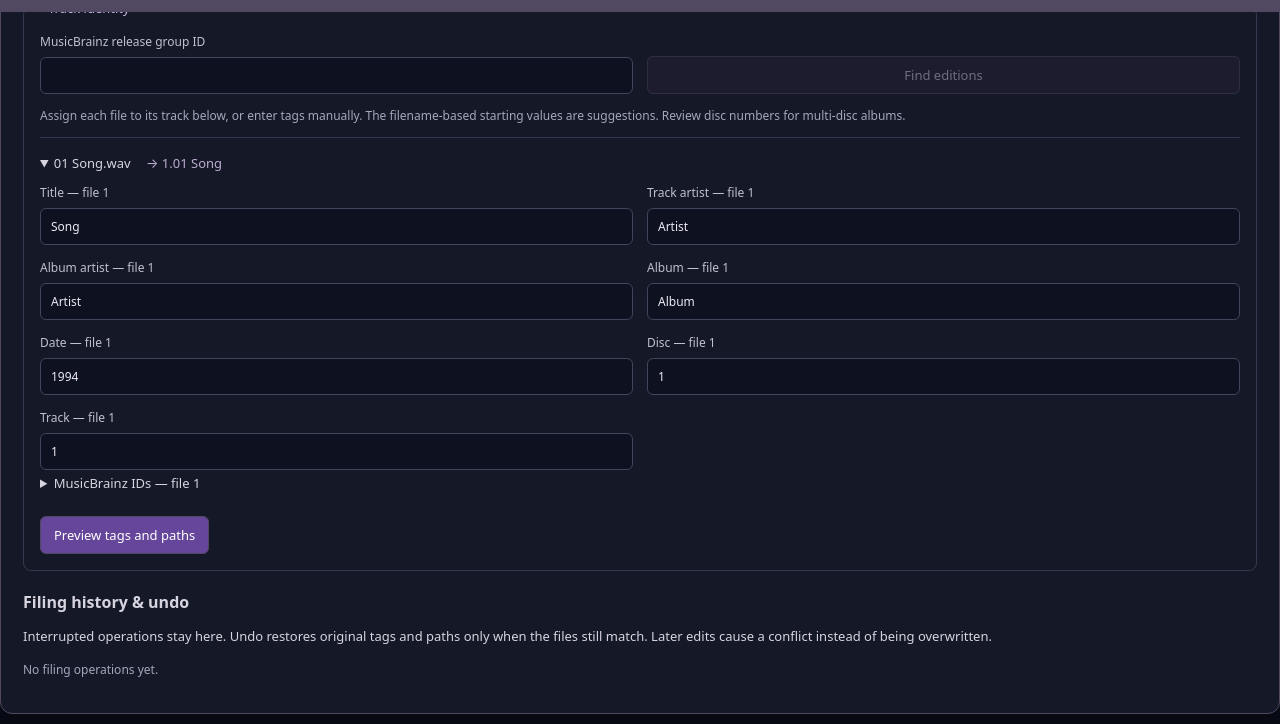
requires review, applies only the reviewed plan, then previews undo before restoring
(page scrolled)
Click the button "Preview tags and paths": (125, 535) [40, 516, 209, 554]
(page scrolled)
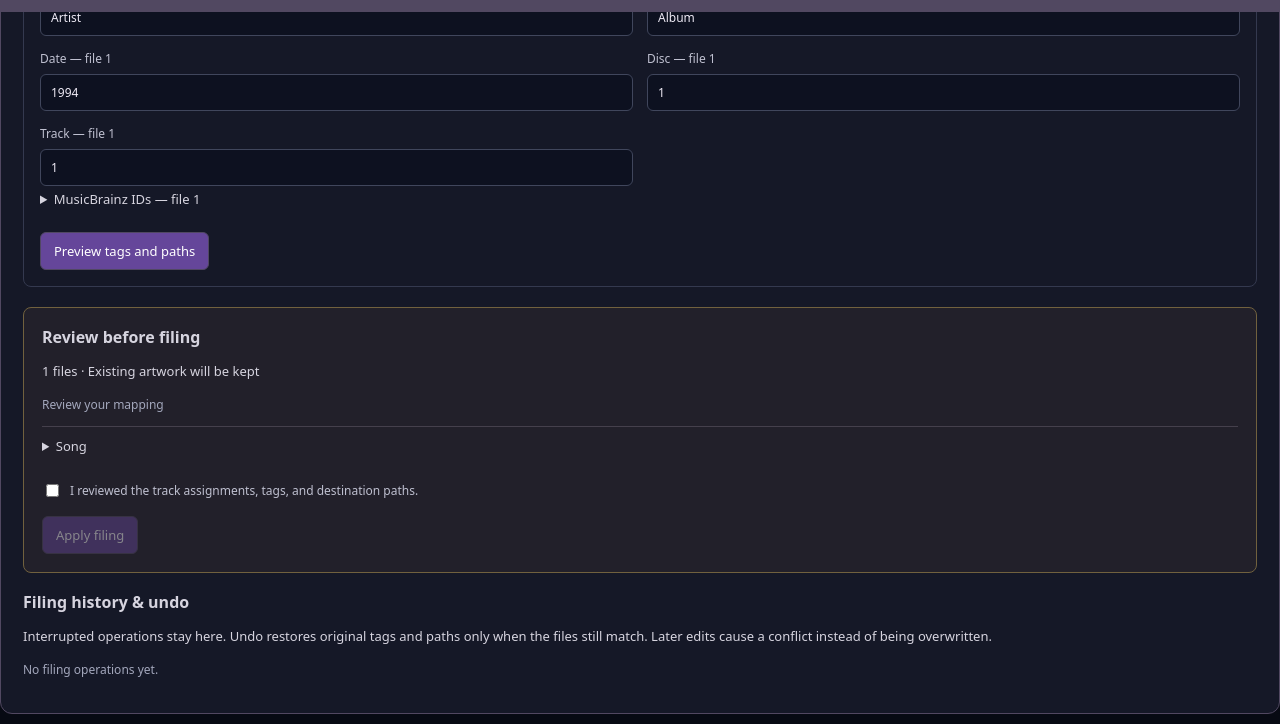
Check: the button "Apply filing" is disabled, box [42, 516, 138, 554]
Click the checkbox labelled "I reviewed the track assignments, tags, and destination paths.": (52, 491) [46, 484, 59, 497]
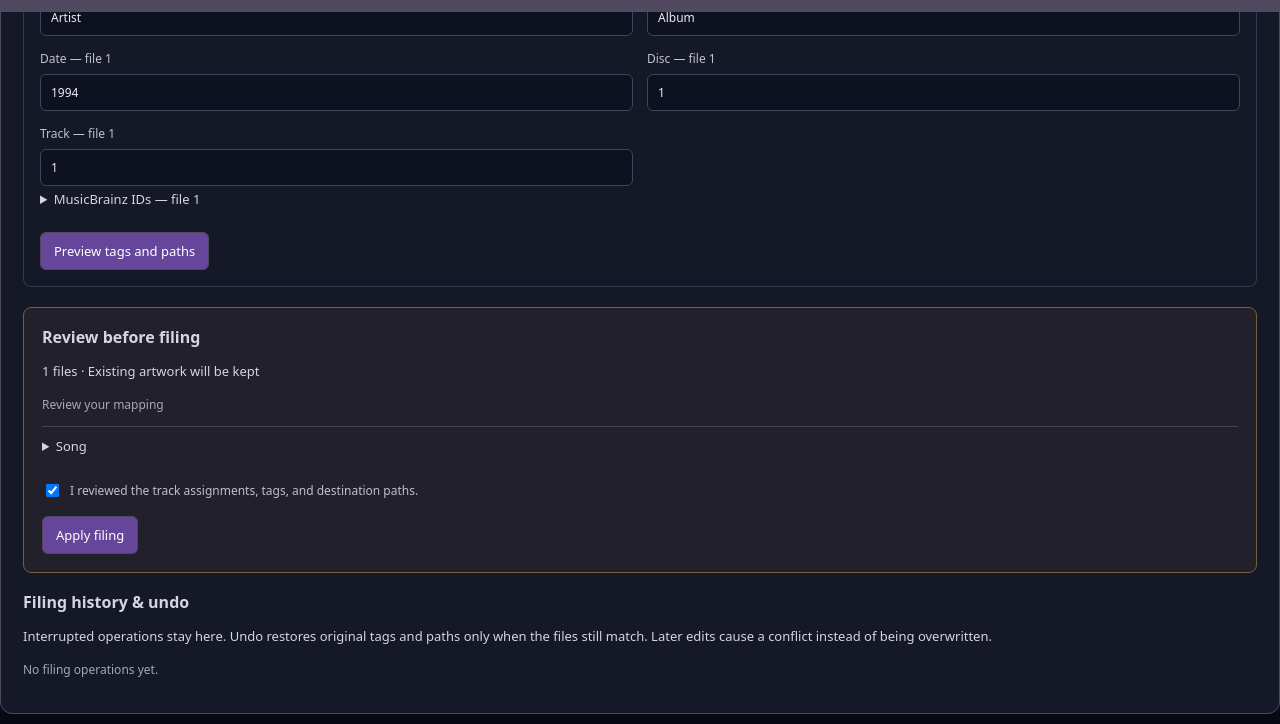
Click the button "Apply filing": (90, 535) [42, 516, 138, 554]
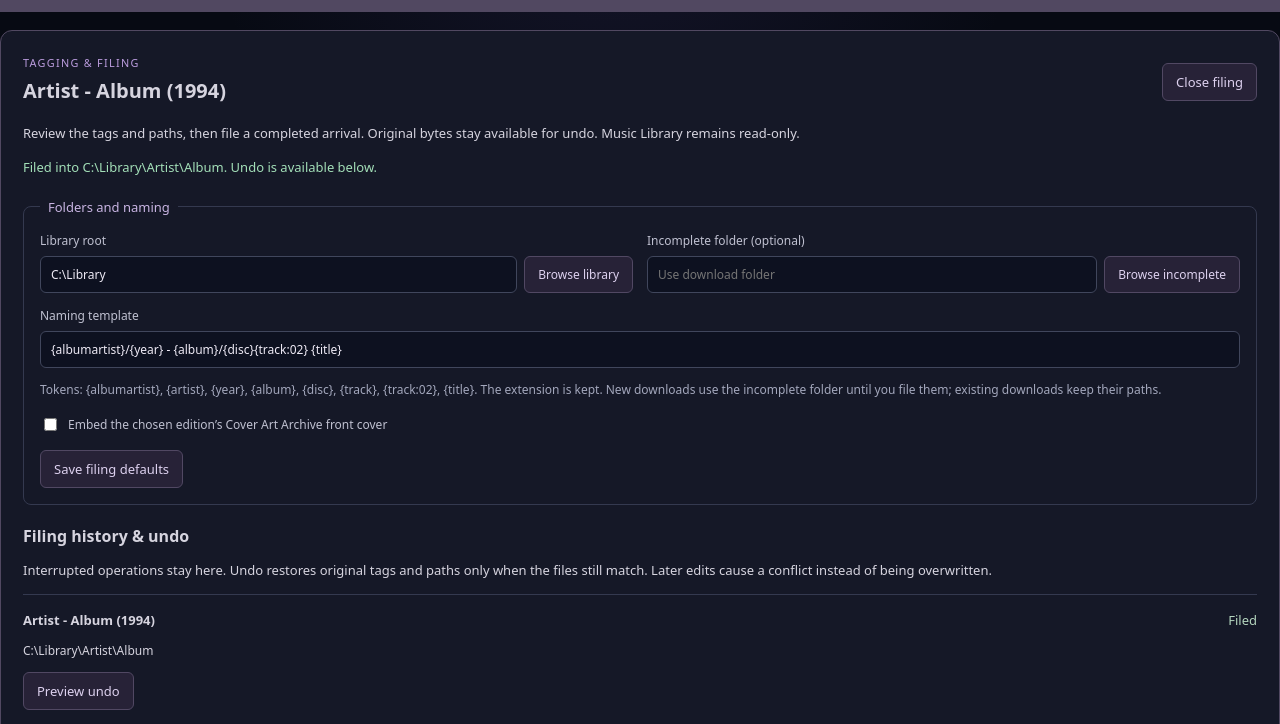
Click the button "Preview undo": (78, 691) [23, 672, 134, 710]
(page scrolled)
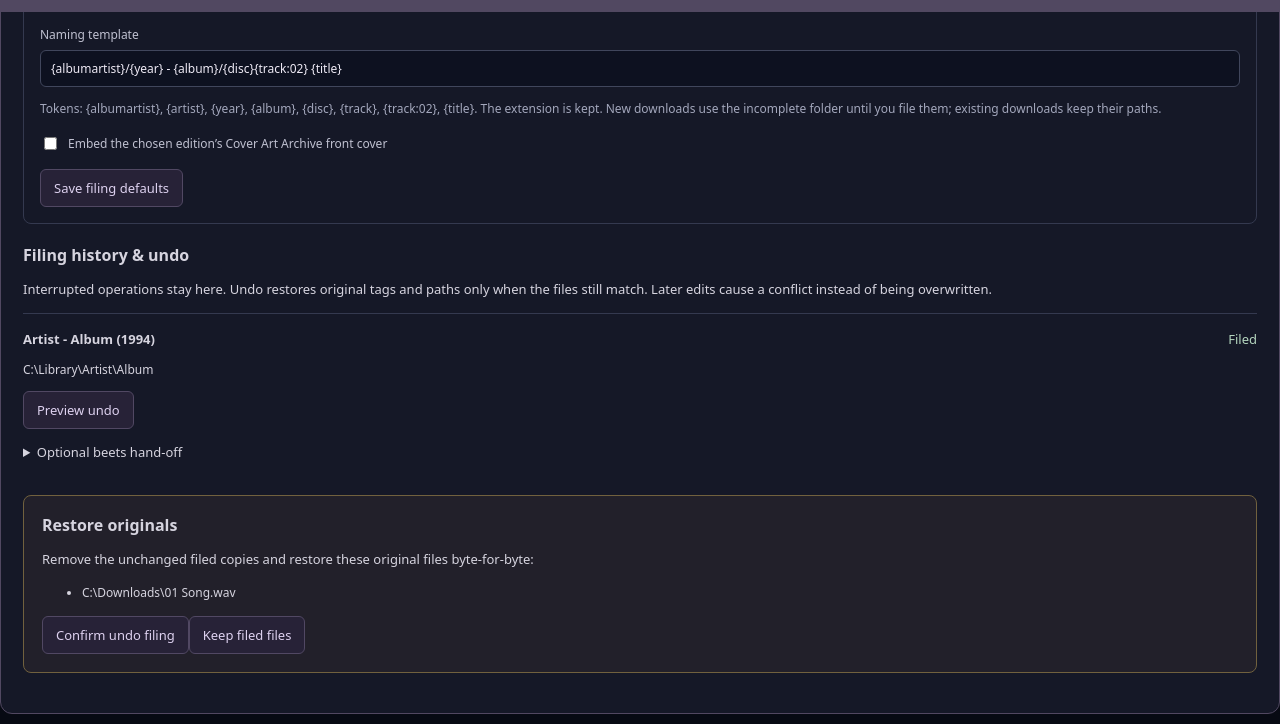
Click the button "Confirm undo filing": (115, 635) [42, 616, 189, 654]
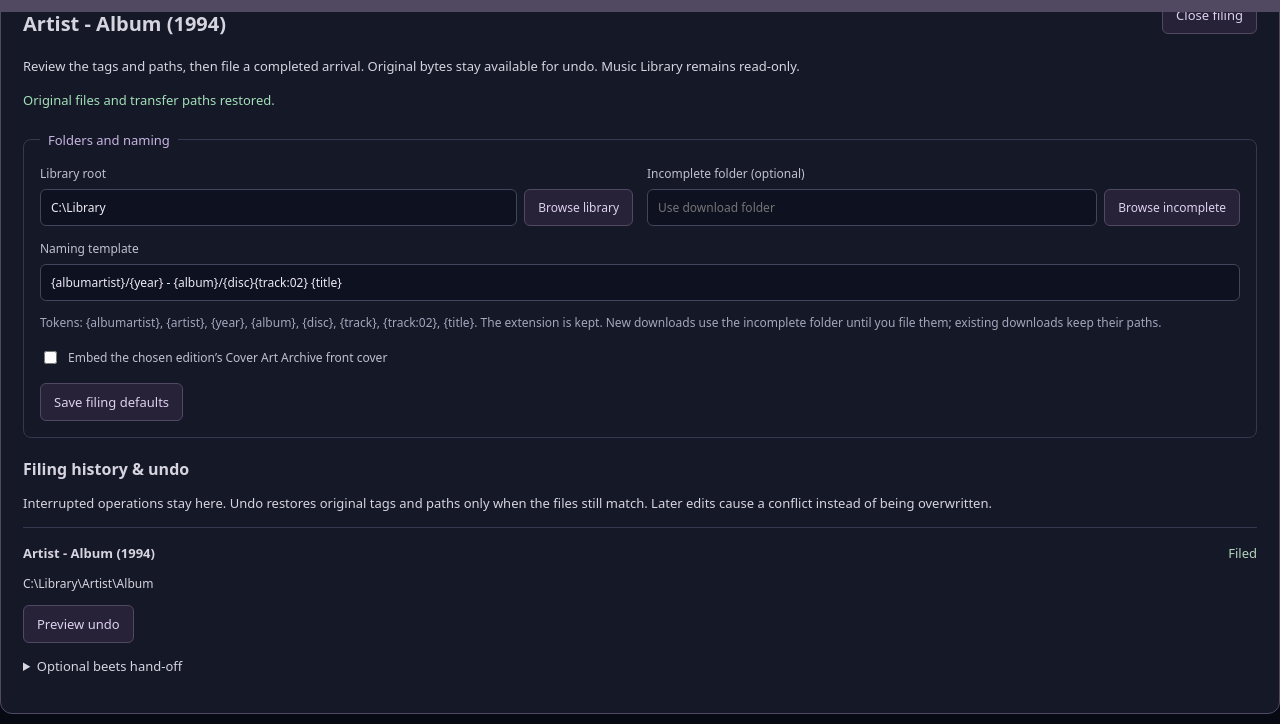
Check: the text "Original files and transfer paths restored." is shown, box [23, 91, 275, 109]
